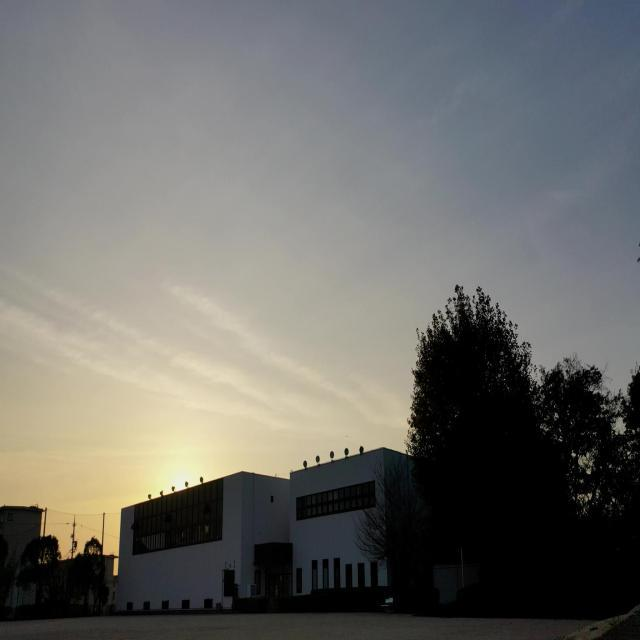Birds: (344, 432, 350, 440)
